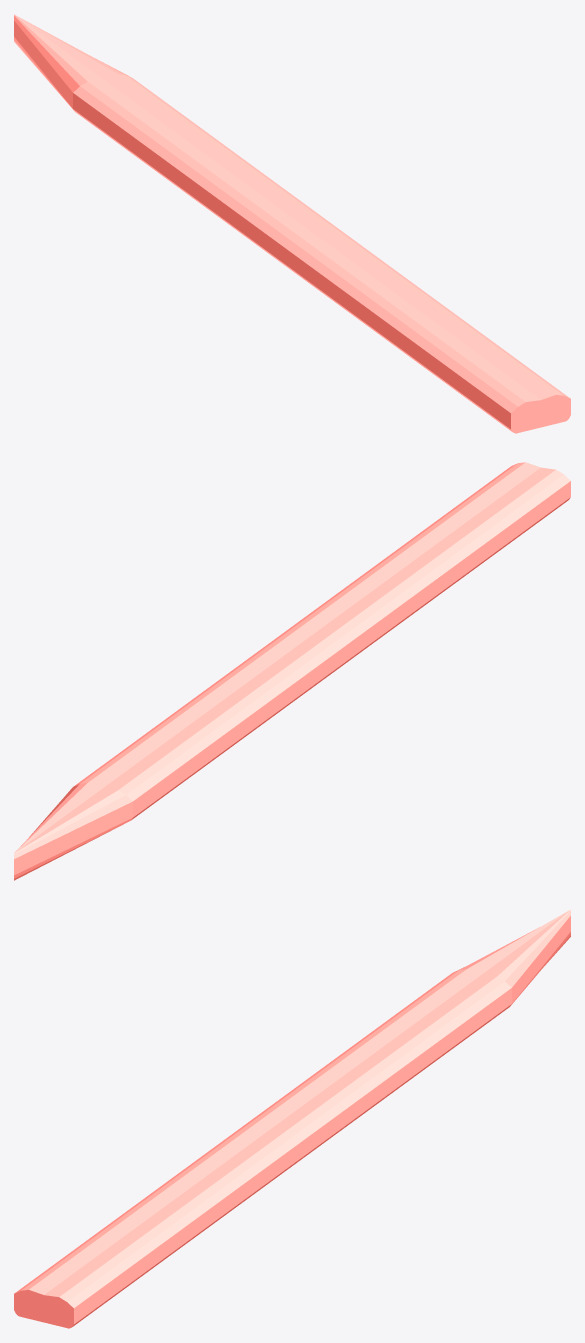
The model's file is blade.glb.
3 renders of one model, top to bottom at view 1: azimuth 30°, elevation 25°; view 2: azimuth 150°, elevation 25°; view 3: azimuth 330°, elevation 25°, orthographic.
Visible parts, largest first — view 1: Cylinder.002; view 2: Cylinder.002; view 3: Cylinder.002.
Part boxes in pixels (x1,y1,x2,y2): Cylinder.002: (14,14,570,433); Cylinder.002: (14,462,570,880); Cylinder.002: (14,909,570,1328).
Size of the model in its own units: 0.0925 by 0.0428 by 1.41.
